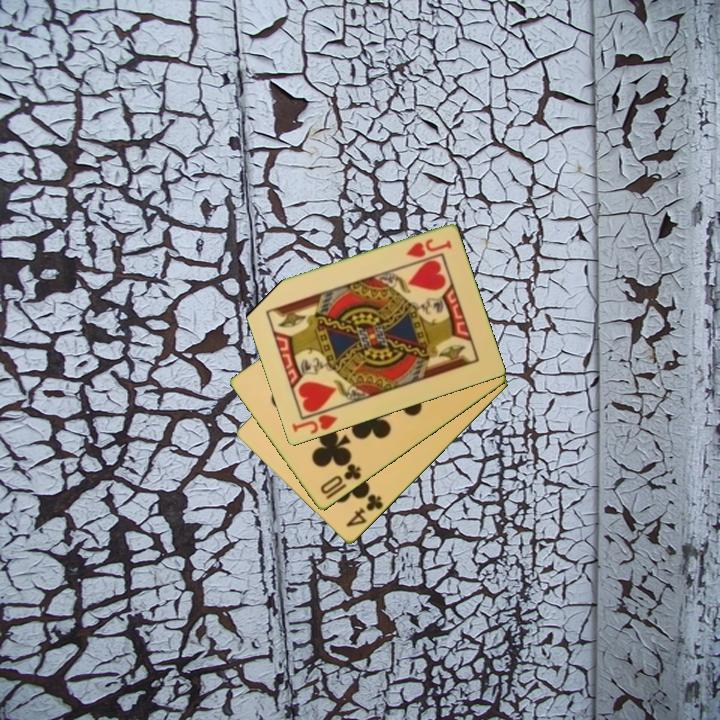10c: (316, 460, 364, 498)
4c: (342, 491, 386, 530)
Jh: (288, 411, 340, 437), (402, 235, 454, 261)
